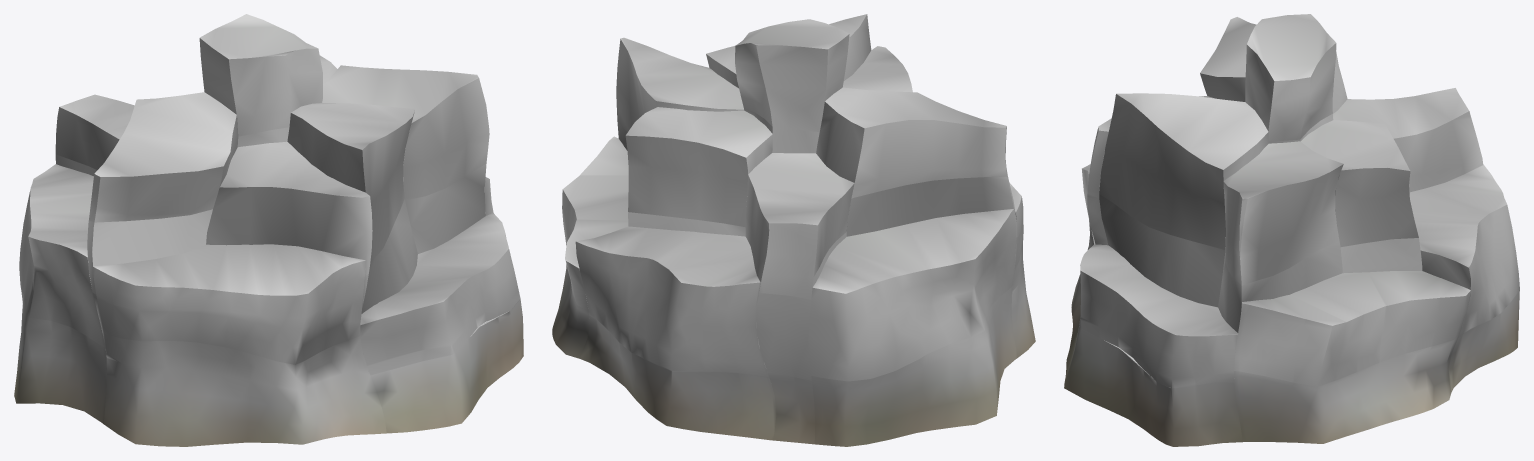
The model's file is iron_rock_v6.glb.
The picture shows the model from 3 angles, left to right: view 1: azimuth 30°, elevation 25°; view 2: azimuth 150°, elevation 25°; view 3: azimuth 270°, elevation 25°; orthographic projection. The views are drawn at different scales.
Parts seen in each view (by area): view 1: Chunk_29, Chunk_30, Chunk_16, Chunk_32, Chunk_19, Chunk_06, Chunk_28, Chunk_03, Chunk_22, Chunk_31, Chunk_27, Chunk_15 (+4 smaller); view 2: Chunk_28, Chunk_26, Chunk_27, Chunk_16, Chunk_09, Chunk_12, Chunk_25, Chunk_03, Chunk_06, Chunk_15, Chunk_24, Chunk_11 (+8 smaller); view 3: Chunk_24, Chunk_22, Chunk_32, Chunk_23, Chunk_06, Chunk_26, Chunk_31, Chunk_03, Chunk_09, Chunk_12, Chunk_21, Chunk_05 (+6 smaller).
Part boxes in pixels (x1,y1,x2,y2): Chunk_29: [103, 333, 386, 446]; Chunk_30: [92, 244, 366, 364]; Chunk_16: [89, 92, 238, 222]; Chunk_32: [360, 213, 520, 375]; Chunk_19: [206, 141, 372, 275]; Chunk_06: [322, 65, 489, 200]; Chunk_28: [19, 164, 105, 347]; Chunk_03: [199, 14, 322, 136]; Chunk_22: [287, 103, 415, 259]; Chunk_31: [370, 299, 523, 433]; Chunk_27: [14, 292, 106, 423]; Chunk_15: [87, 209, 212, 294]; Chunk_28: [808, 209, 1016, 381]; Chunk_26: [575, 226, 769, 378]; Chunk_27: [811, 286, 1017, 446]; Chunk_16: [816, 87, 1007, 198]; Chunk_09: [625, 107, 772, 227]; Chunk_12: [745, 153, 854, 299]; Chunk_25: [580, 315, 776, 440]; Chunk_03: [735, 19, 849, 131]; Chunk_06: [616, 37, 744, 132]; Chunk_15: [846, 175, 1017, 237]; Chunk_24: [562, 136, 628, 310]; Chunk_11: [756, 293, 811, 380]; Chunk_24: [1234, 271, 1470, 386]; Chunk_22: [1099, 93, 1268, 249]; Chunk_32: [1079, 244, 1237, 388]; Chunk_23: [1234, 334, 1459, 443]; Chunk_06: [1223, 141, 1343, 285]; Chunk_26: [1409, 164, 1519, 337]; Chunk_31: [1064, 326, 1242, 446]; Chunk_03: [1245, 14, 1336, 141]; Chunk_09: [1300, 120, 1418, 246]; Chunk_12: [1333, 88, 1483, 192]; Chunk_21: [1099, 194, 1225, 307]; Chunk_05: [1218, 241, 1342, 332].
Size of the model in its own units: 3.07 by 2.23 by 2.85.
